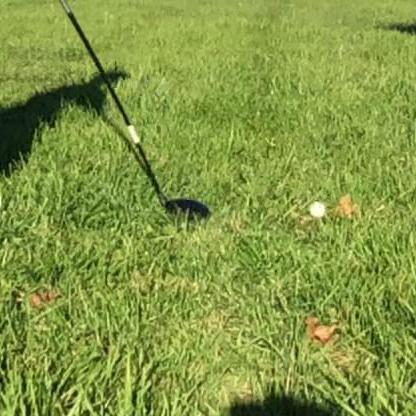golfball: (306, 198, 323, 217)
